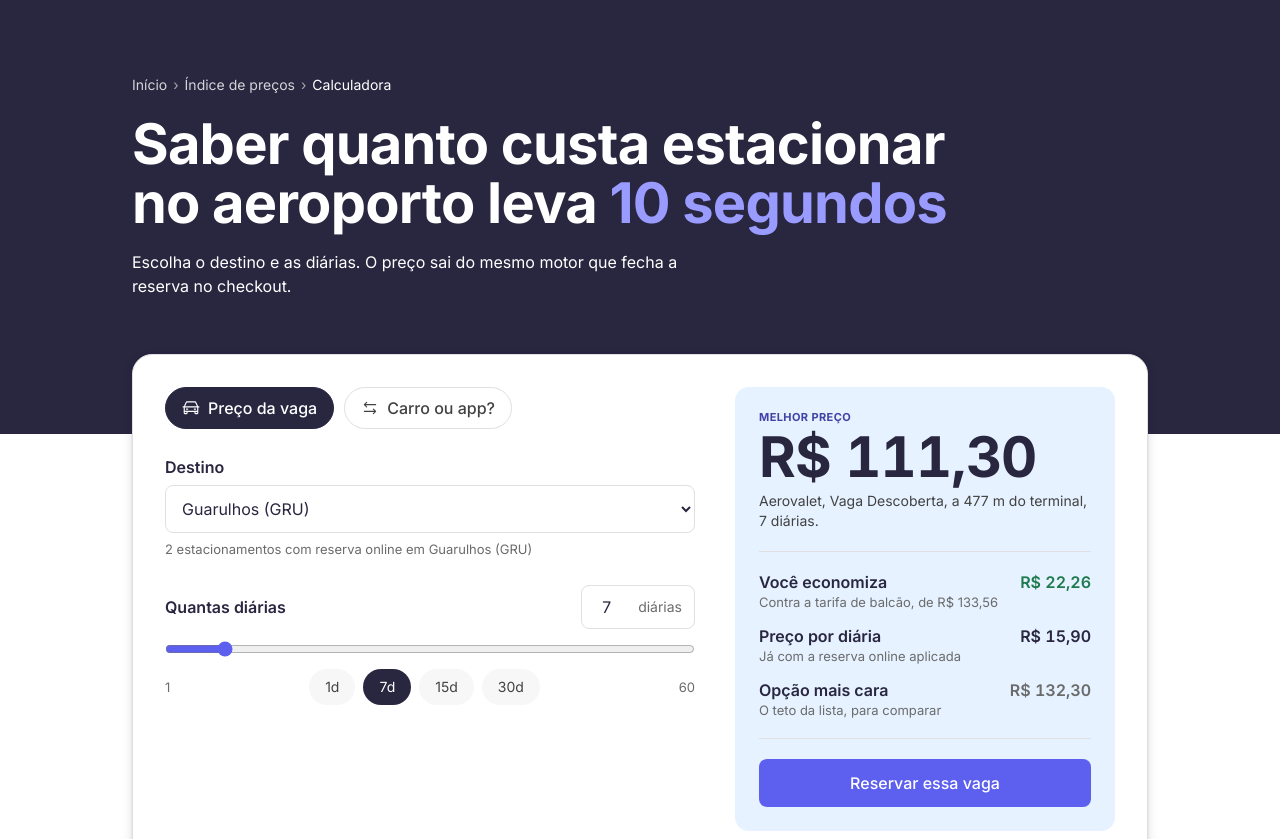
it: CalculadoraPage › destino sem parceiro entra no select e abre os mapeados sozinho, com o seja-parceiro
The image size is (1280, 839).
Step 1. Select "Confins (CNF)" in the dropdown labelled "Destino" → (430, 509), box [165,485,695,533]
(page scrolled)
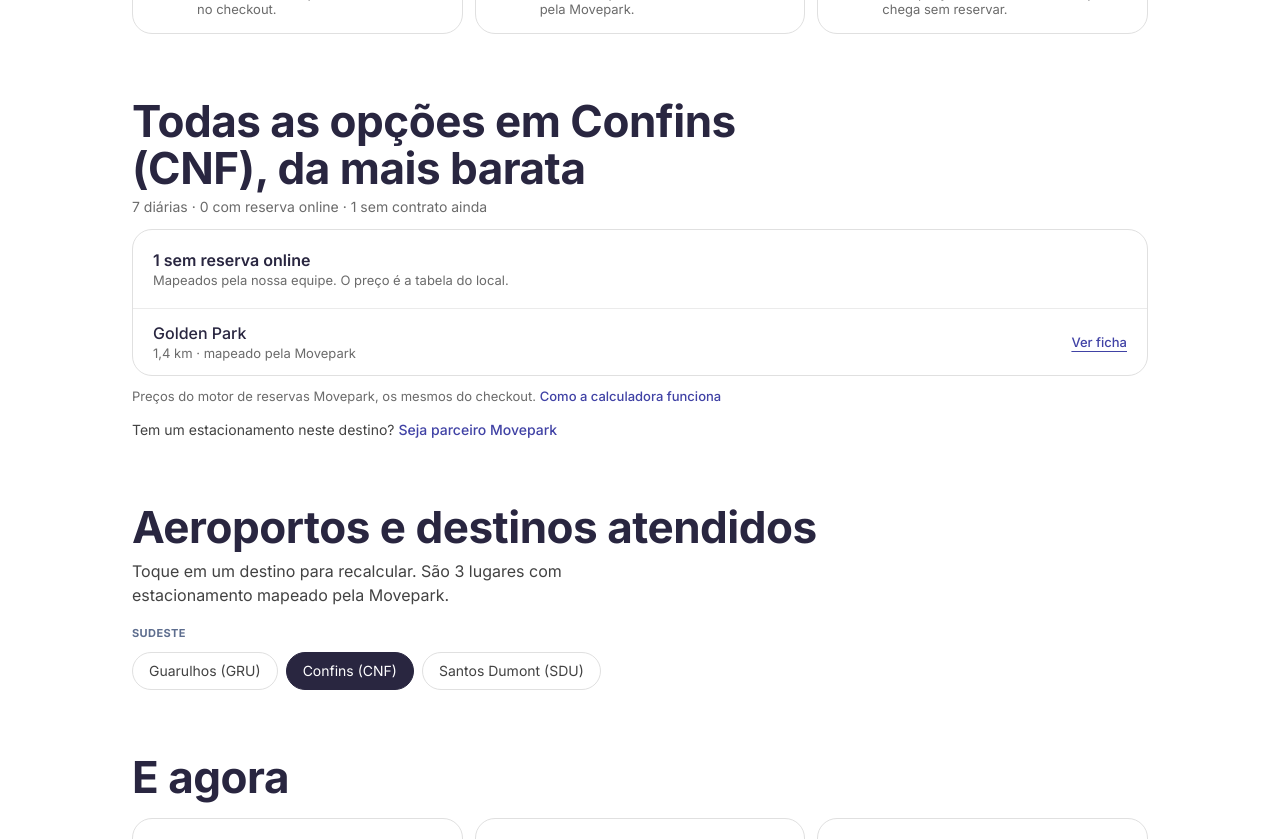
Expected: the heading "Todas as opções em Confins (CNF), da mais barata" is shown, [132,94,736,195]
Expected: the text "Golden Park" is shown, [153,323,246,343]
